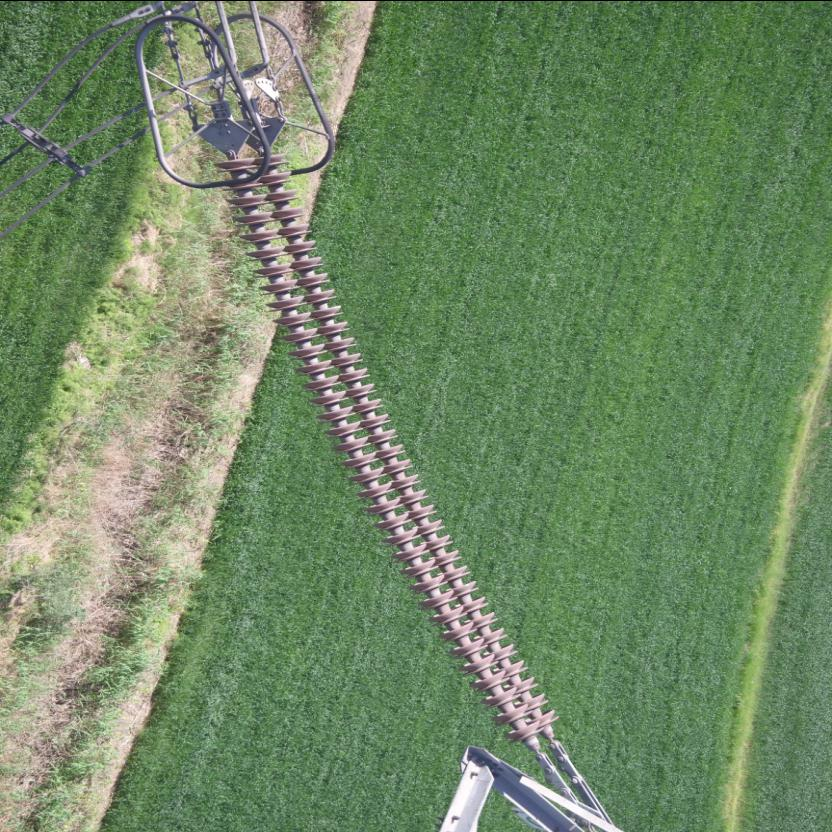insulator: (212, 138, 568, 770)
